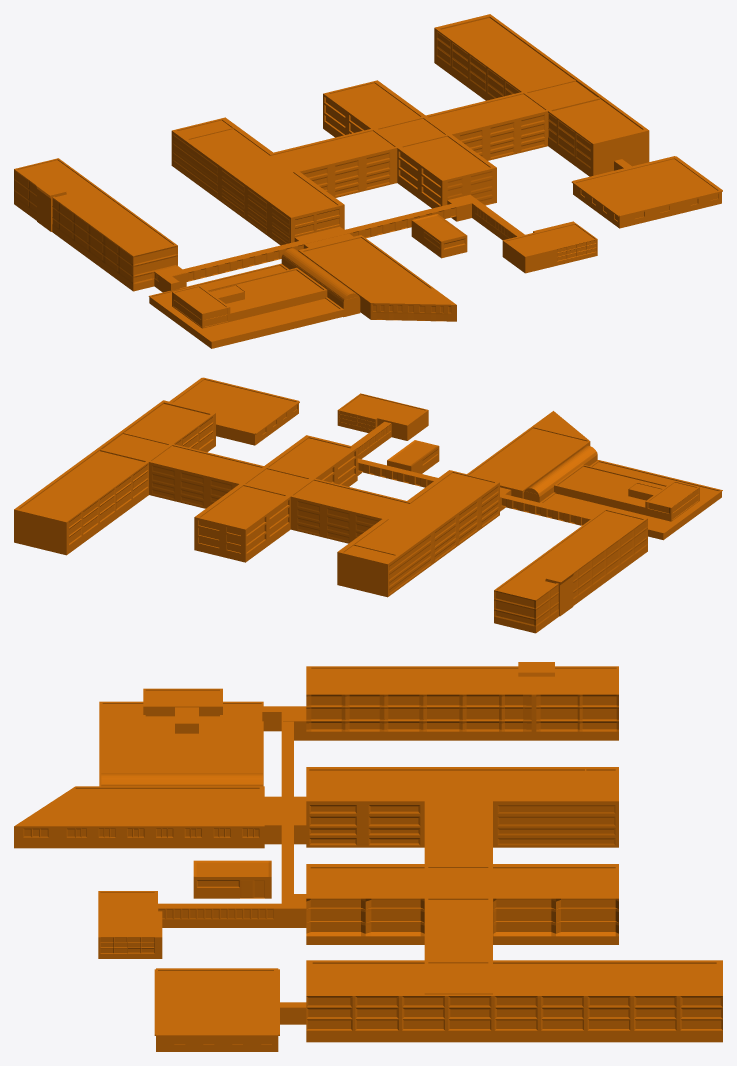
The model's file is NijenborgHanzeDevelopment.fbx.
The picture shows the model from 3 angles, top to bottom: view 1: azimuth 30°, elevation 25°; view 2: azimuth 150°, elevation 25°; view 3: azimuth 270°, elevation 25°; orthographic projection. The views are drawn at different scales.
Visible parts, largest first — view 1: Cube.001; view 2: Cube.001; view 3: Cube.001.
Part boxes in pixels (x1=…): Cube.001: x1=14, y1=14, x2=722, y2=348; Cube.001: x1=14, y1=377, x2=722, y2=633; Cube.001: x1=14, y1=662, x2=722, y2=1051.
Bounding box in the file's own units: 3456 × 233 × 3028.
